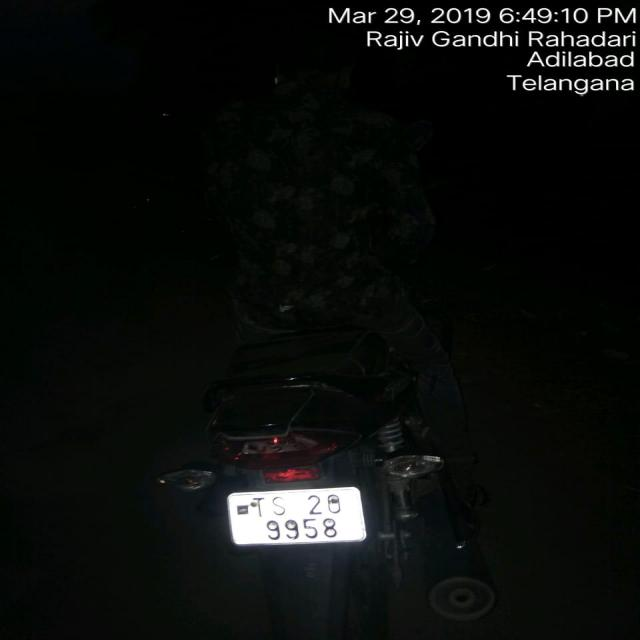plate: (217, 478, 376, 549)
